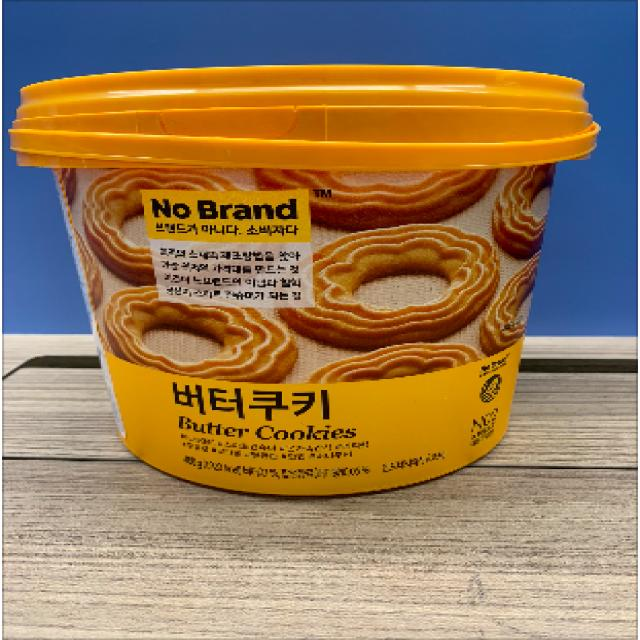object_name: (40, 71, 578, 478)
